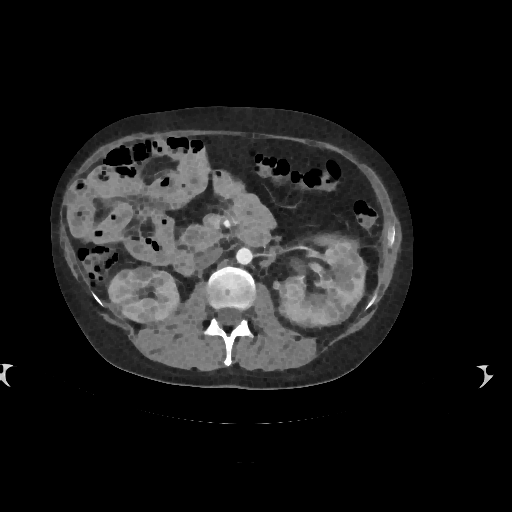Lesion: (279, 286, 309, 301), (271, 278, 283, 292)
